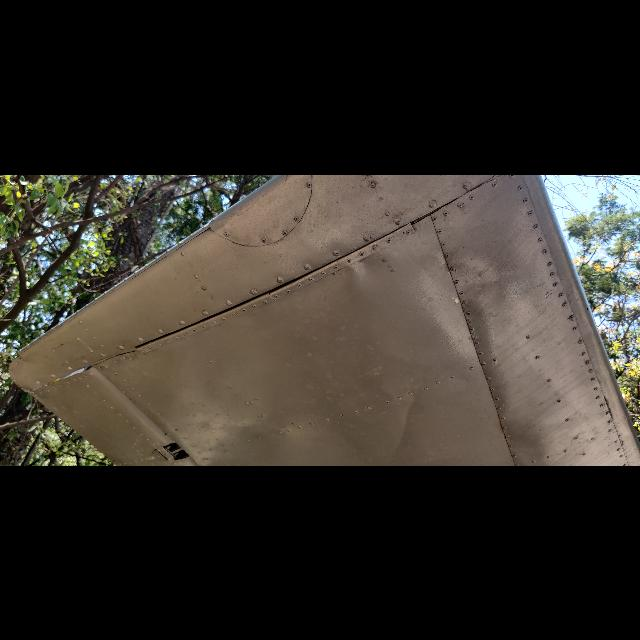dent: (429, 293, 505, 369), (372, 395, 432, 459), (270, 420, 296, 444), (232, 416, 258, 438), (344, 258, 368, 280)
